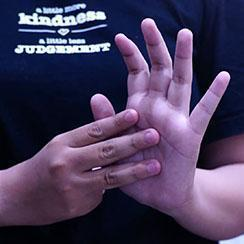M: (50, 5, 238, 244)
